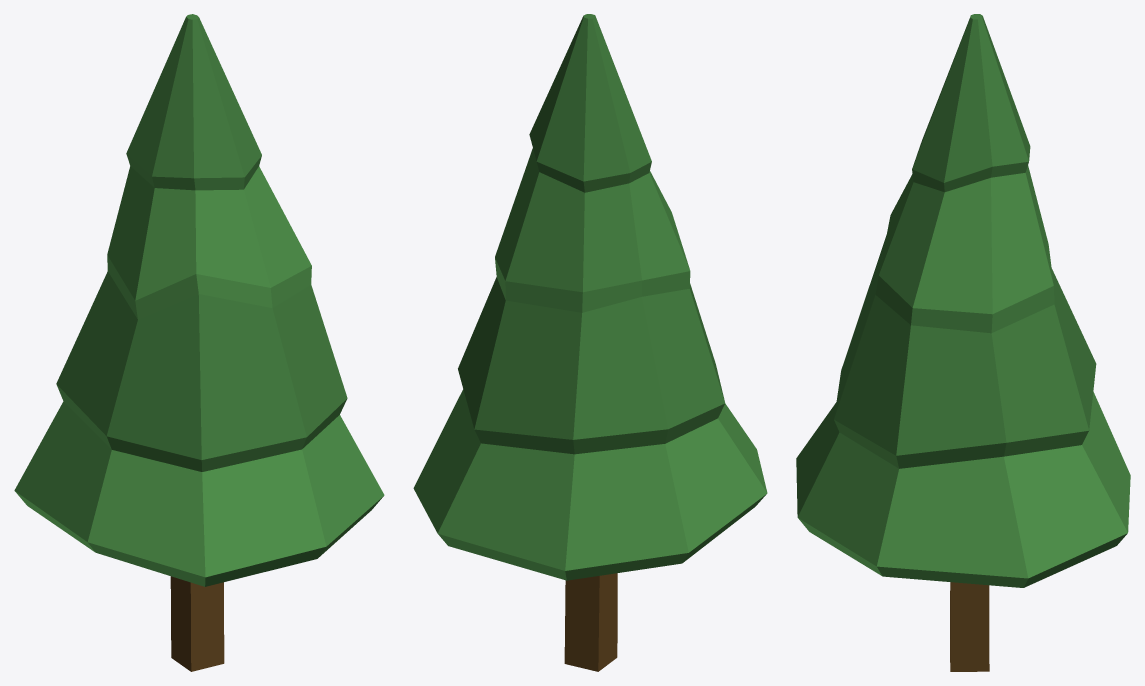
Rendered from tree_pine_medium_1.fbx.
The picture shows the model from 3 angles, left to right: view 1: azimuth 30°, elevation 25°; view 2: azimuth 150°, elevation 25°; view 3: azimuth 270°, elevation 25°; orthographic projection.
Parts seen in each view (by area): view 1: pCube292; view 2: pCube292; view 3: pCube292.
Boxes of the visible parts, x1=… form: pCube292: x1=14, y1=14, x2=384, y2=671; pCube292: x1=413, y1=14, x2=767, y2=671; pCube292: x1=796, y1=14, x2=1130, y2=671.
Size of the model in its own units: 4.46 by 9.45 by 4.43.
